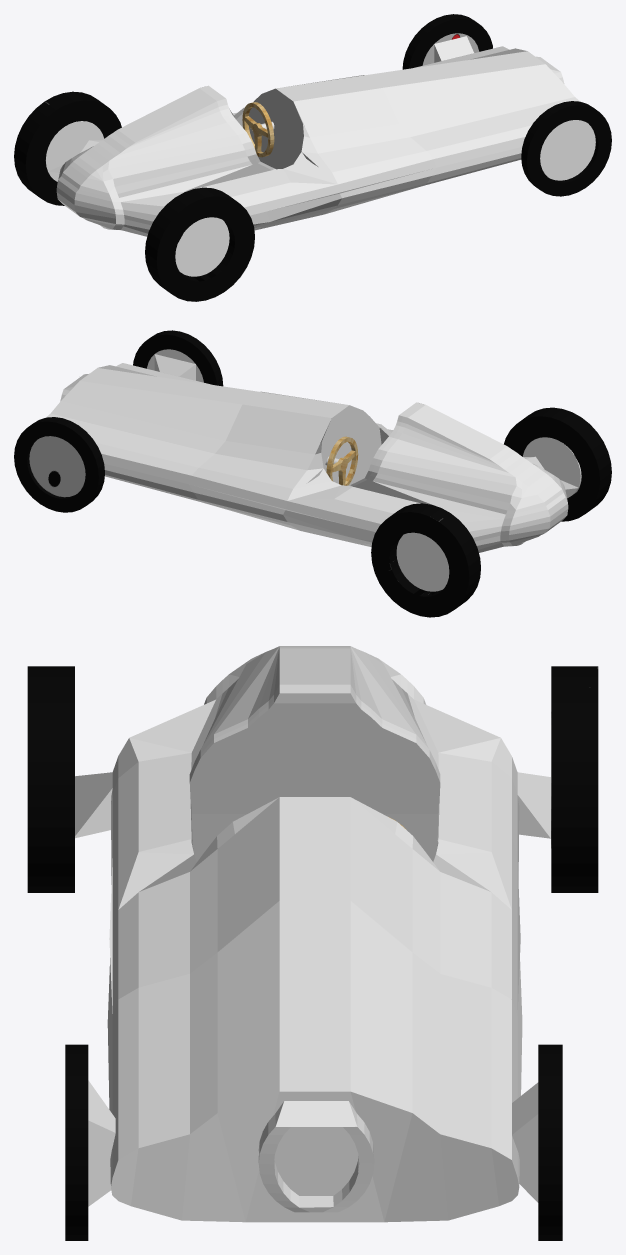
Rendered from racerOneBodyTireFix.glb.
3 views of the same model, one above another, from view 1: azimuth 30°, elevation 25°; view 2: azimuth 150°, elevation 25°; view 3: azimuth 270°, elevation 25° (orthographic). The views are drawn at different scales.
Visible parts, largest first — view 1: body, Hood, middle, RearTire.001, RearTire, FrontTire.002, dash, rim2.002, rim.001, FrontTire.001, rim, steeringWheel (+4 smaller); view 2: body.001, Hood.001, middle, RearTire, RearTire.001, FrontTire.001, dash, rim2.001, rim, FrontTire.002, rim.001, steeringWheel (+5 smaller); view 3: body.001, body, middle, mask, Hood, Hood.001, backPannel, RearTire, RearTire.001, FrontTire.001, FrontTire.002, steering Cube.001 (+3 smaller).
Part boxes in pixels (x1,y1,x2,y2): body: [74, 88, 521, 236]; Hood: [383, 64, 579, 175]; middle: [56, 51, 545, 216]; RearTire.001: [145, 187, 254, 301]; RearTire: [14, 91, 121, 205]; FrontTire.002: [521, 101, 611, 196]; dash: [243, 88, 317, 169]; rim2.002: [540, 120, 595, 180]; rim.001: [175, 217, 229, 276]; FrontTire.001: [402, 14, 492, 69]; rim: [45, 121, 104, 181]; steeringWheel: [242, 102, 274, 157]; body.001: [105, 404, 550, 552]; Hood.001: [46, 381, 242, 492]; middle: [80, 368, 568, 532]; RearTire: [371, 503, 480, 617]; RearTire.001: [504, 407, 611, 521]; FrontTire.001: [14, 417, 104, 512]; dash: [306, 405, 382, 485]; rim2.001: [29, 436, 85, 497]; rim: [396, 532, 449, 591]; FrontTire.002: [133, 330, 223, 386]; rim.001: [522, 437, 581, 498]; steeringWheel: [326, 436, 358, 485]; body.001: [350, 646, 522, 1021]; body: [107, 646, 279, 1021]; middle: [246, 646, 384, 1222]; mask: [111, 1092, 519, 1222]; Hood: [107, 901, 279, 1185]; Hood.001: [350, 901, 522, 1186]; backPannel: [189, 693, 440, 861]; RearTire: [551, 666, 598, 892]; RearTire.001: [27, 666, 74, 892]; FrontTire.001: [538, 1044, 562, 1240]; FrontTire.002: [65, 1044, 88, 1240]; steering Cube.001: [88, 1080, 115, 1206].
Bounding box in the file's own units: 4.72 × 1.26 × 2.4.
5 materials, 3 textured.
